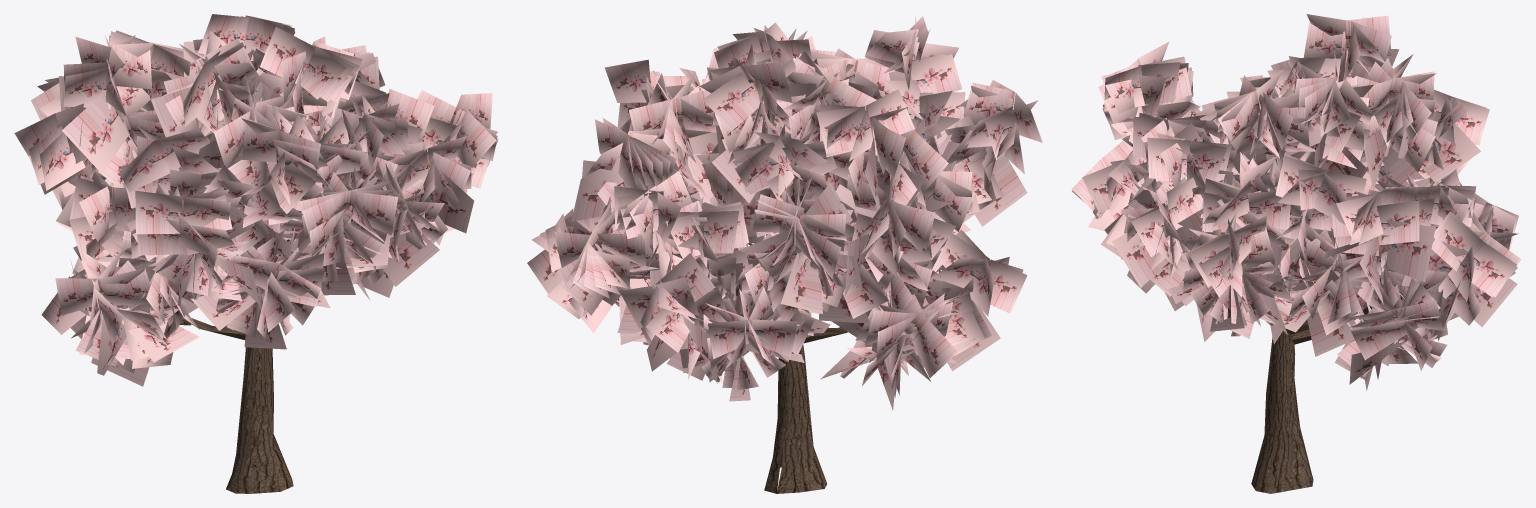
Rendered from tree-blossom.glb.
The picture shows the model from 3 angles, left to right: view 1: azimuth 30°, elevation 25°; view 2: azimuth 150°, elevation 25°; view 3: azimuth 270°, elevation 25°; orthographic projection. The views are drawn at different scales.
Parts seen in each view (by area): view 1: tree-blossom; view 2: tree-blossom; view 3: tree-blossom.
Part boxes in pixels (bbox=[...]): tree-blossom: bbox=[14, 14, 498, 493]; tree-blossom: bbox=[527, 14, 1042, 493]; tree-blossom: bbox=[1072, 14, 1521, 493].
Bounding box in the file's own units: 6.77 × 7.01 × 6.74.
Materials: 2 (2 with a texture image).
